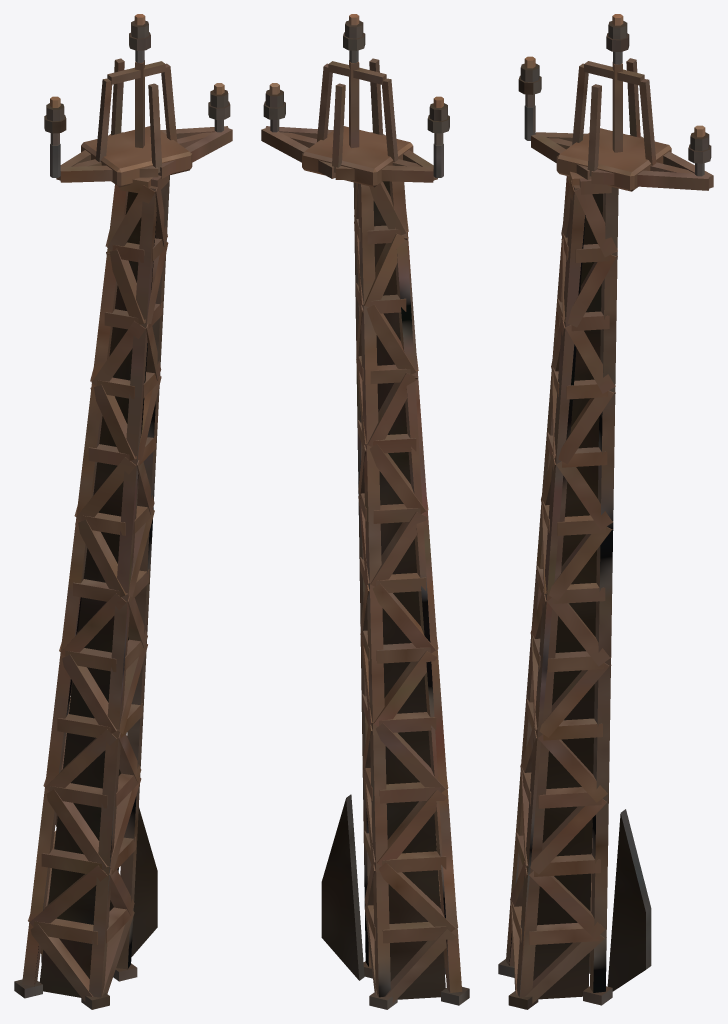
File: medium-electric-pole.glb
3 renders of one model, left to right at view 1: azimuth 30°, elevation 25°; view 2: azimuth 150°, elevation 25°; view 3: azimuth 330°, elevation 25°, orthographic. The views are drawn at different scales.
Visible parts, largest first — view 1: body; view 2: body; view 3: body.
Boxes of the visible parts, x1,y1,x2,y2 form: body: (14, 14, 232, 1009); body: (261, 14, 469, 1009); body: (498, 14, 713, 1009).
Size of the model in its own units: 1.14 by 5.04 by 0.5887.
Materials: 1 (1 with a texture image).
